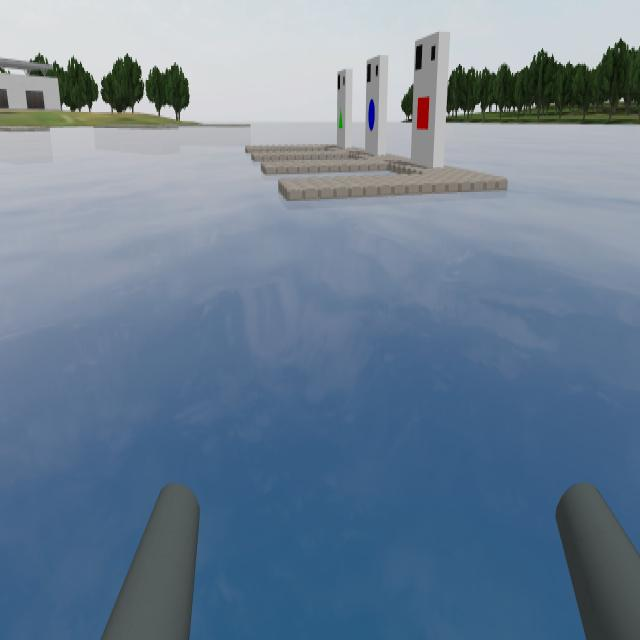dock: (414, 34, 446, 170), (365, 53, 387, 153), (336, 66, 352, 151)
